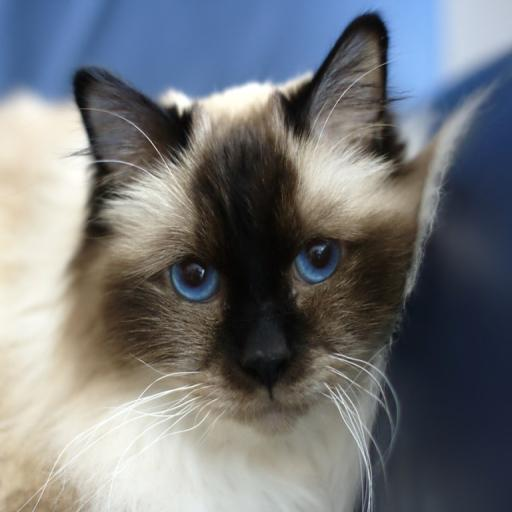cat: (0, 11, 442, 512)
